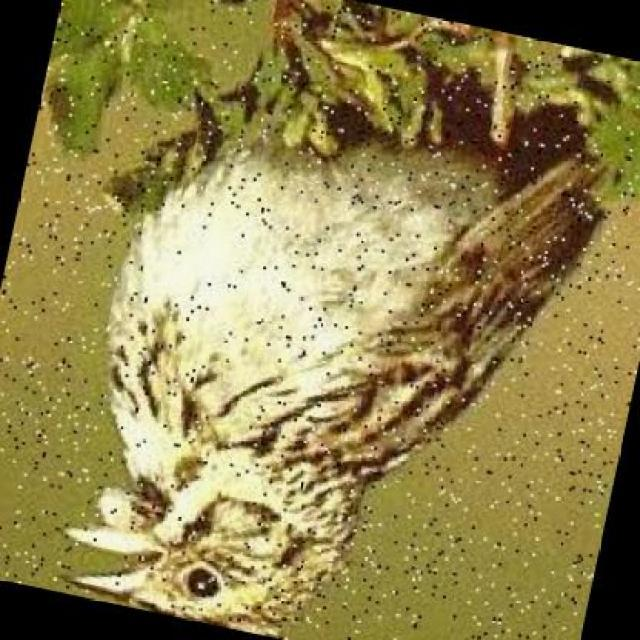Bird: (61, 45, 593, 596)
